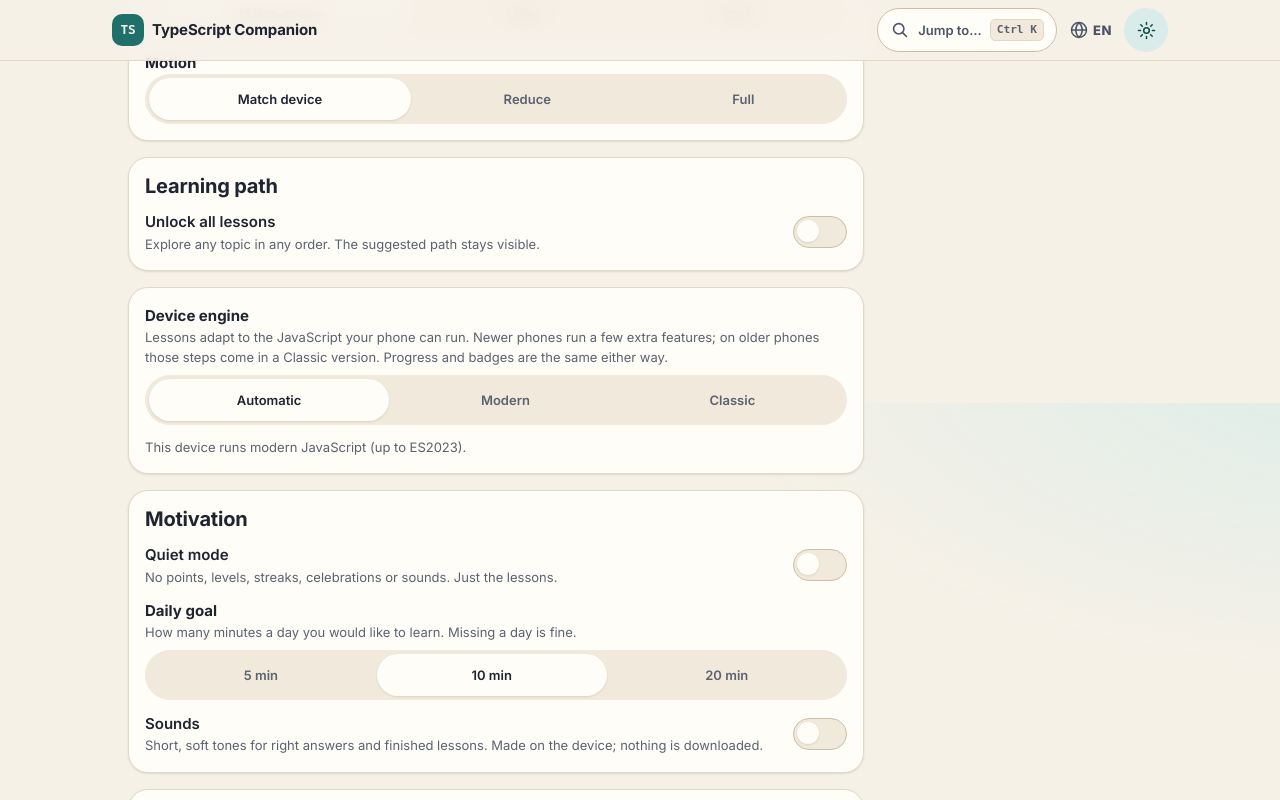
Test: device engine › can be chosen in Settings
The image size is (1280, 800).
(page scrolled)
Expected: the text with test id "engine-status" shows "This device runs modern JavaScript", [145, 439, 466, 455]
Click the radio button labelled "Classic" at (732, 400), box [622, 379, 843, 421]
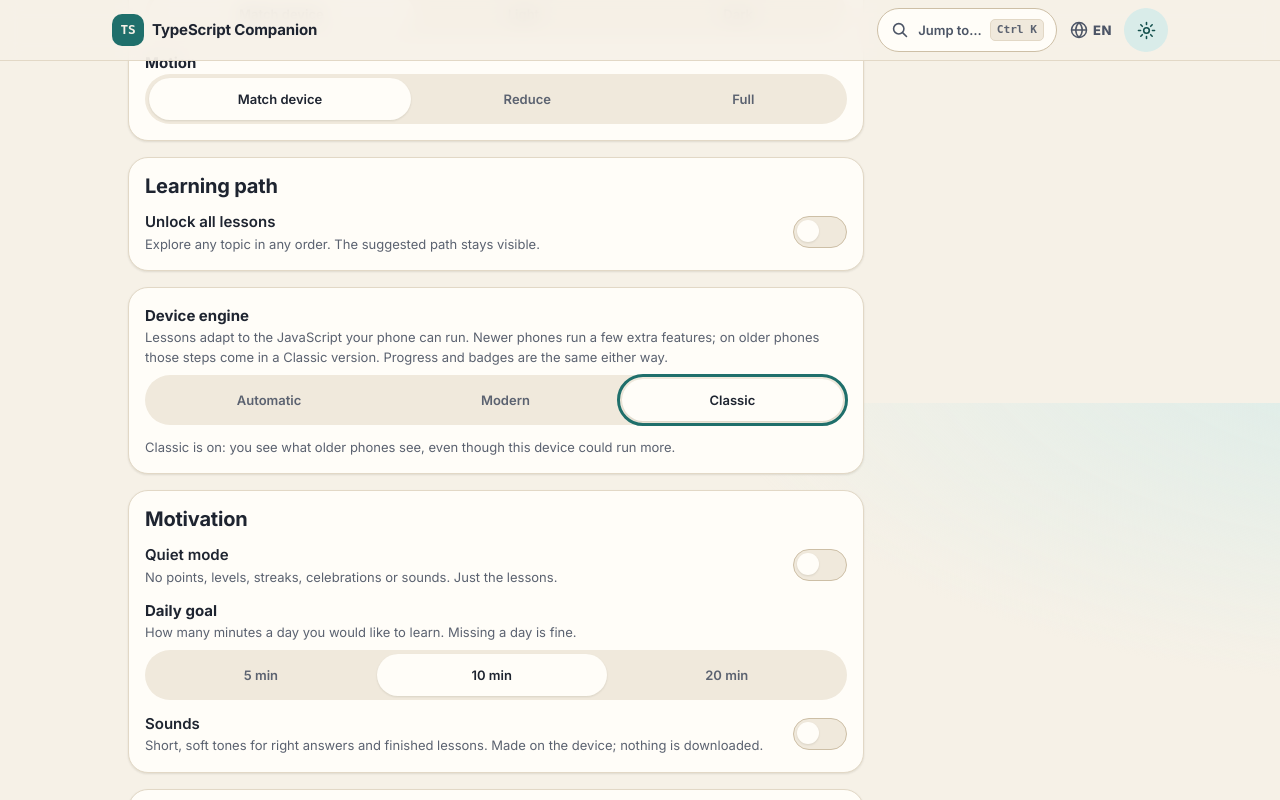
Expected: the text with test id "engine-status" shows "Classic is on", [145, 439, 675, 455]
